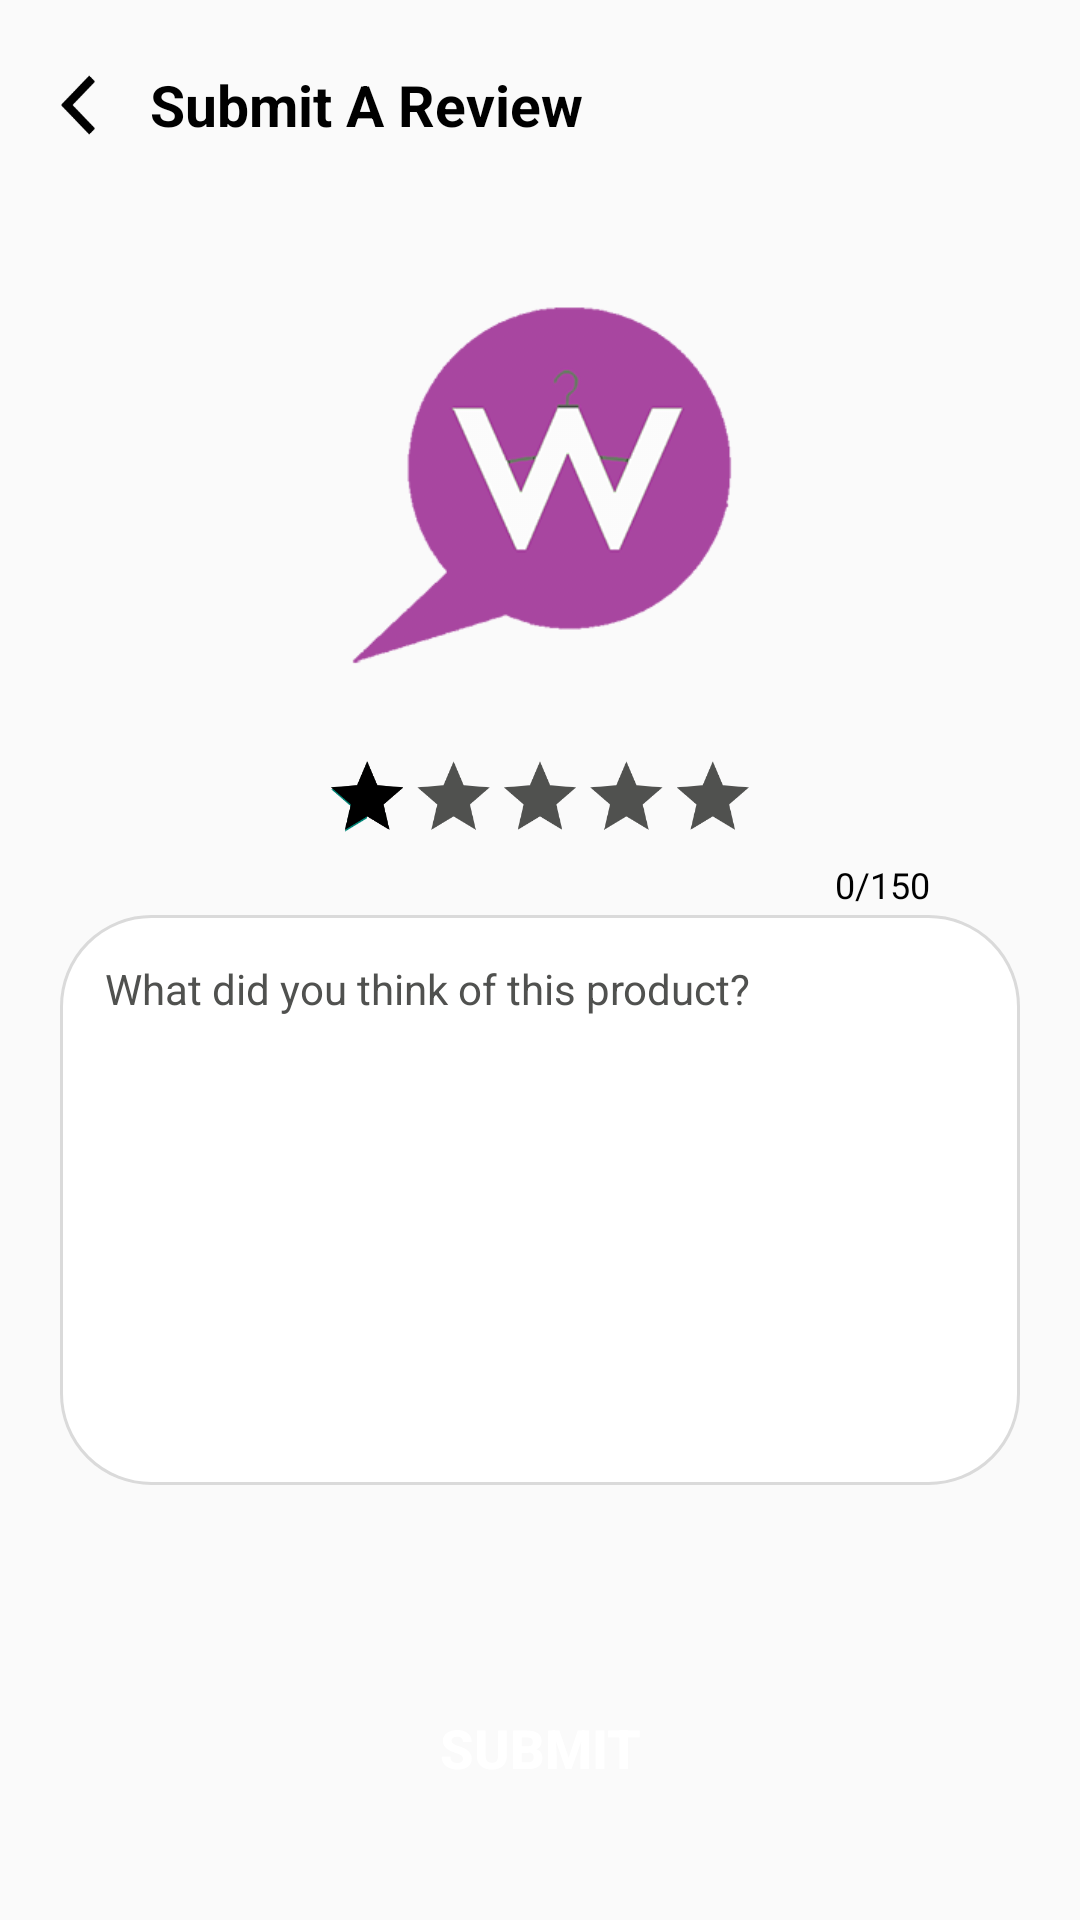

Point at icon controls on the screen. Image size 1080x1920, points as point (x, y).
back: point (78, 105)
